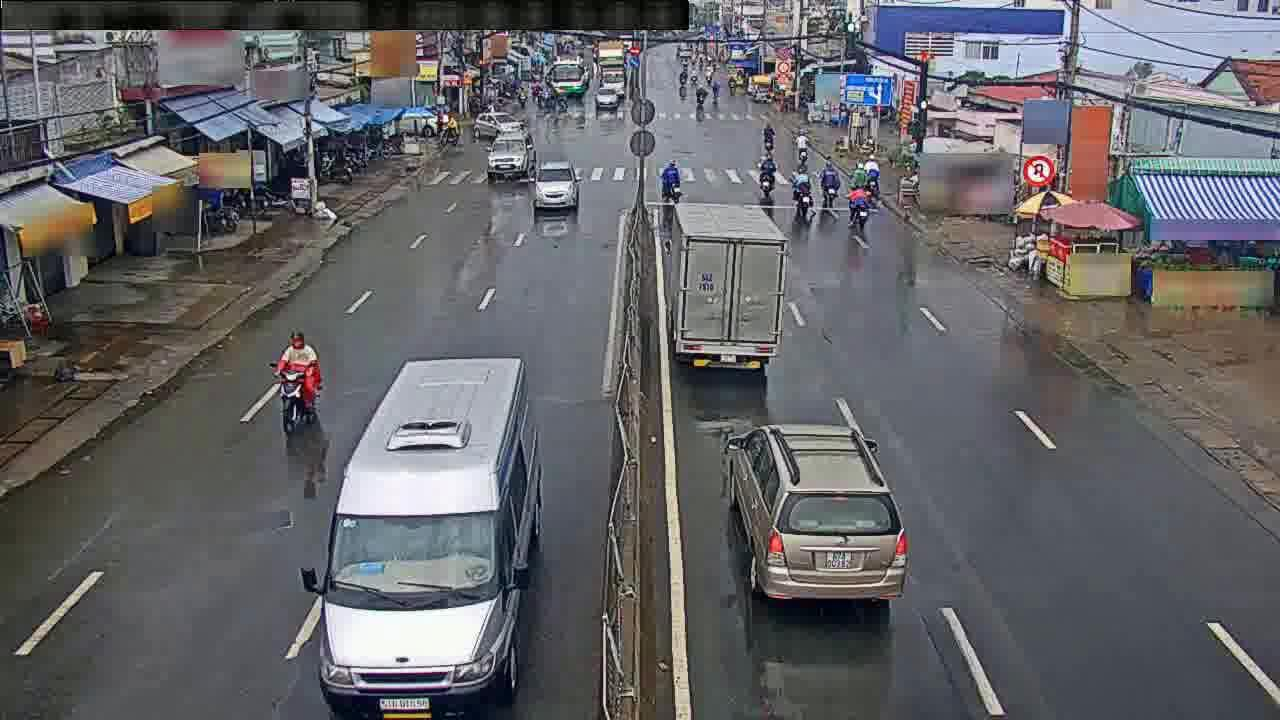14: (312, 355, 530, 699)
8: (668, 198, 792, 381)
container: (719, 420, 910, 608), (532, 156, 583, 213), (488, 128, 540, 179), (390, 103, 452, 140), (473, 112, 527, 142), (591, 84, 624, 109)
motorbike: (278, 329, 327, 427), (653, 157, 685, 207), (817, 157, 845, 210), (751, 150, 780, 195), (845, 183, 874, 226), (790, 168, 815, 215), (861, 153, 879, 191), (794, 131, 808, 164)
